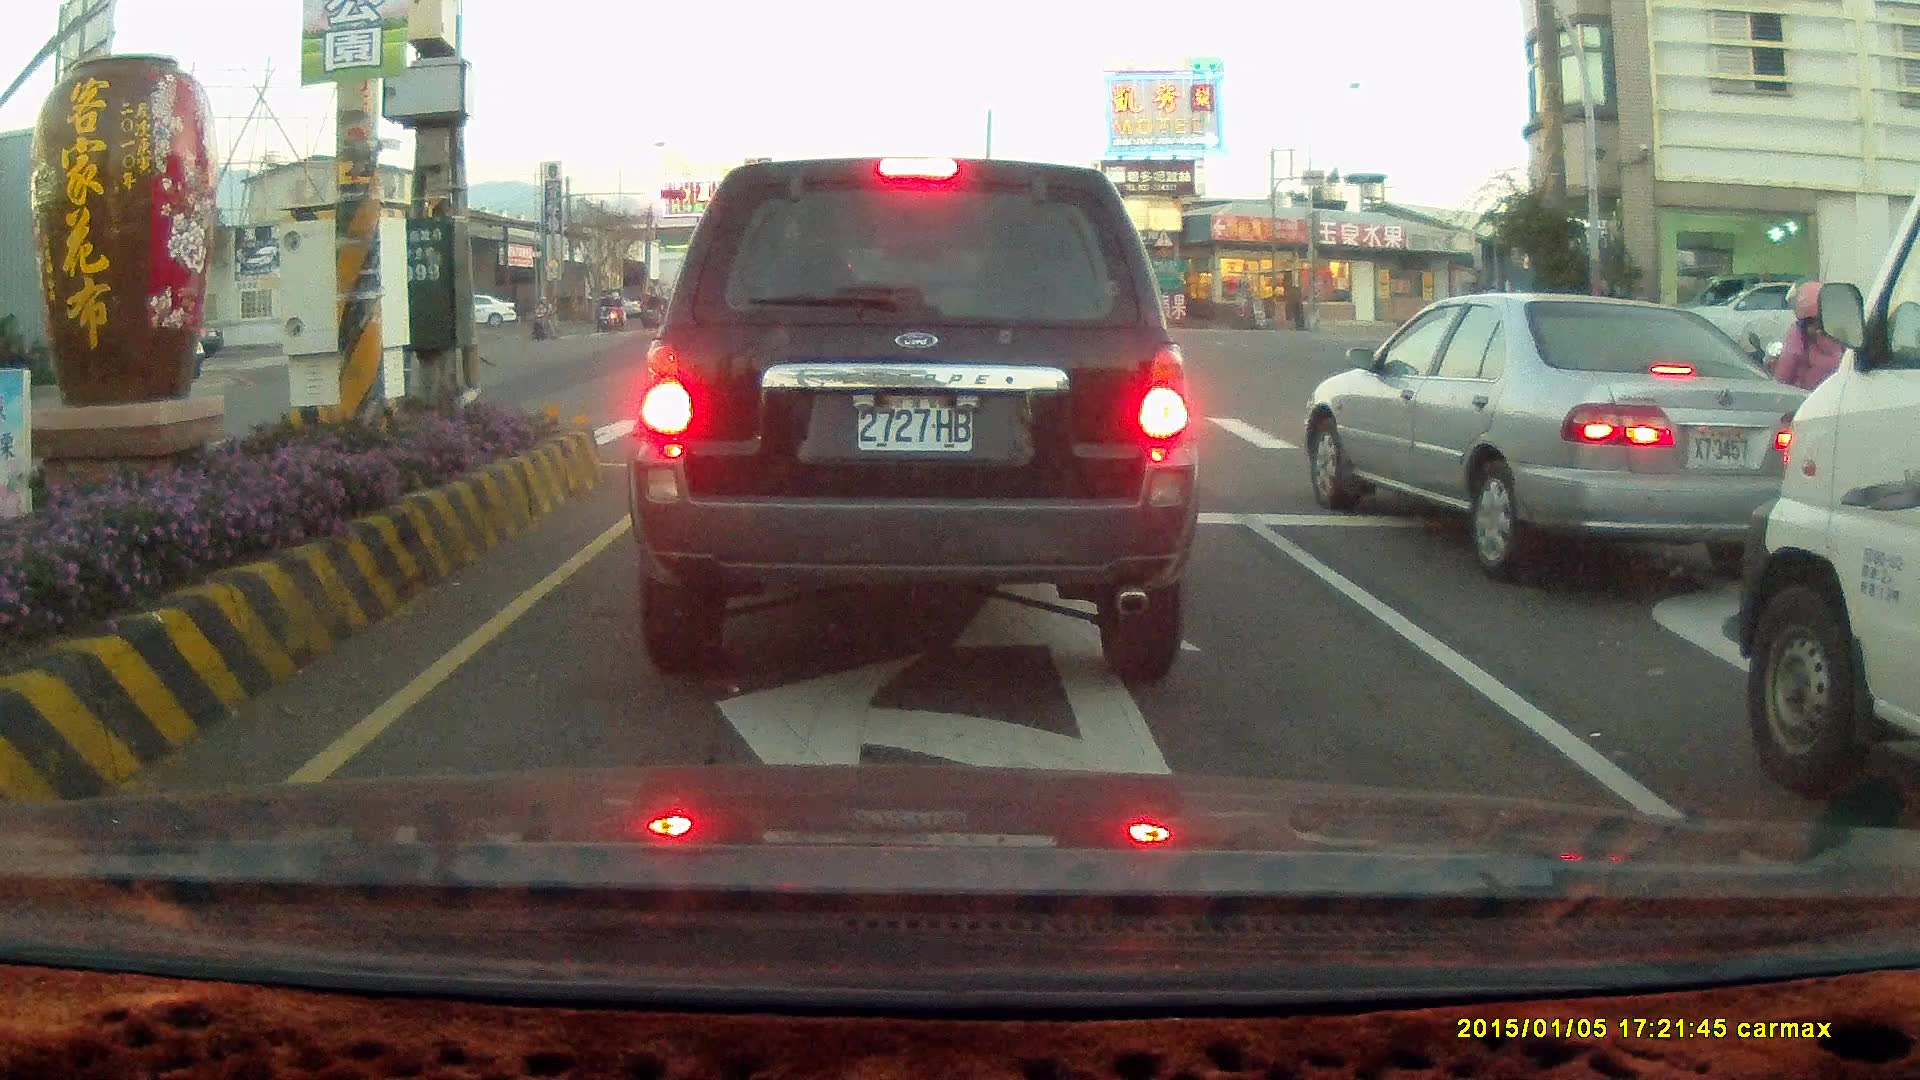rider: (1707, 274, 1920, 524), (527, 290, 562, 338), (592, 290, 613, 331), (605, 293, 626, 330), (643, 289, 664, 326)
vehicle: (625, 155, 1200, 684), (1300, 290, 1827, 582), (1315, 293, 1847, 579), (1738, 182, 1920, 808), (1661, 276, 1855, 370), (1668, 275, 1823, 373)
